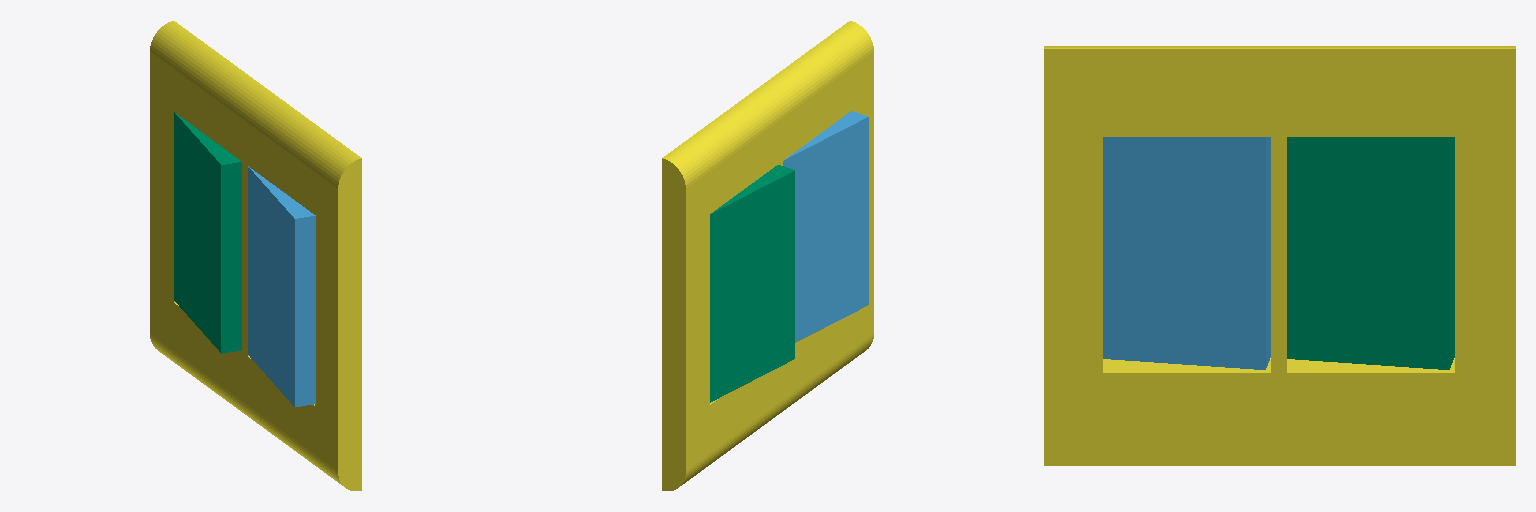
robot.urdf — partnet_3505b2f9-b7a7-44c2-900c-6ac80b0fcbc8:
<robot name="partnet_3505b2f9-b7a7-44c2-900c-6ac80b0fcbc8">
	<link name="base"><inertial><mass value="10" /><inertia ixx="1" ixy="0" ixz="0" iyy="1" iyz="0" izz="1" /></inertial></link>
	<link name="link_0">
		<visual name="switch-1">
			<origin xyz="-0.2850429947919231 0 -0.031202361924061152" />
			<geometry>
				<mesh filename="textured_objs/original-4.obj" />
			</geometry>
		</visual>
		<collision>
			<origin xyz="-0.2850429947919231 0 -0.031202361924061152" />
			<geometry>
				<mesh filename="textured_objs/original-4.obj" />
			</geometry>
		</collision>
	<inertial><mass value="10" /><inertia ixx="1" ixy="0" ixz="0" iyy="1" iyz="0" izz="1" /></inertial></link>
	<joint name="joint_0" type="revolute">
		<origin xyz="0.2850429947919231 0 0.031202361924061152" />
		<axis xyz="0 1 0" />
		<child link="link_0" />
		<parent link="link_2" />
		<limit effort="30" lower="0.0" upper="0.33161255787892263" velocity="1.0" />
	</joint>
	<link name="link_1">
		<visual name="switch-2">
			<origin xyz="0.2982585020662718 0 -0.031202445219137696" />
			<geometry>
				<mesh filename="textured_objs/original-5.obj" />
			</geometry>
		</visual>
		<collision>
			<origin xyz="0.2982585020662718 0 -0.031202445219137696" />
			<geometry>
				<mesh filename="textured_objs/original-5.obj" />
			</geometry>
		</collision>
	<inertial><mass value="10" /><inertia ixx="1" ixy="0" ixz="0" iyy="1" iyz="0" izz="1" /></inertial></link>
	<joint name="joint_1" type="revolute">
		<origin xyz="-0.2982585020662718 0 0.031202445219137696" />
		<axis xyz="0 1 0" />
		<child link="link_1" />
		<parent link="link_2" />
		<limit effort="30" lower="0.0" upper="0.3141592653589793" velocity="1.0" />
	</joint>
	<link name="link_2">
		<visual name="base_body-3">
			<origin xyz="0 0 0" />
			<geometry>
				<mesh filename="textured_objs/original-21.obj" />
			</geometry>
		</visual>
		<visual name="base_body-3">
			<origin xyz="0 0 0" />
			<geometry>
				<mesh filename="textured_objs/original-22.obj" />
			</geometry>
		</visual>
		<visual name="base_body-3">
			<origin xyz="0 0 0" />
			<geometry>
				<mesh filename="textured_objs/original-26.obj" />
			</geometry>
		</visual>
		<visual name="base_body-3">
			<origin xyz="0 0 0" />
			<geometry>
				<mesh filename="textured_objs/original-3.obj" />
			</geometry>
		</visual>
		<visual name="base_body-3">
			<origin xyz="0 0 0" />
			<geometry>
				<mesh filename="textured_objs/original-2.obj" />
			</geometry>
		</visual>
		<visual name="base_body-3">
			<origin xyz="0 0 0" />
			<geometry>
				<mesh filename="textured_objs/original-16.obj" />
			</geometry>
		</visual>
		<visual name="base_body-3">
			<origin xyz="0 0 0" />
			<geometry>
				<mesh filename="textured_objs/original-8.obj" />
			</geometry>
		</visual>
		<visual name="base_body-3">
			<origin xyz="0 0 0" />
			<geometry>
				<mesh filename="textured_objs/original-13.obj" />
			</geometry>
		</visual>
		<visual name="base_body-3">
			<origin xyz="0 0 0" />
			<geometry>
				<mesh filename="textured_objs/original-9.obj" />
			</geometry>
		</visual>
		<visual name="base_body-3">
			<origin xyz="0 0 0" />
			<geometry>
				<mesh filename="textured_objs/original-27.obj" />
			</geometry>
		</visual>
		<visual name="base_body-3">
			<origin xyz="0 0 0" />
			<geometry>
				<mesh filename="textured_objs/original-15.obj" />
			</geometry>
		</visual>
		<visual name="base_body-3">
			<origin xyz="0 0 0" />
			<geometry>
				<mesh filename="textured_objs/original-23.obj" />
			</geometry>
		</visual>
		<visual name="base_body-3">
			<origin xyz="0 0 0" />
			<geometry>
				<mesh filename="textured_objs/original-11.obj" />
			</geometry>
		</visual>
		<visual name="base_body-3">
			<origin xyz="0 0 0" />
			<geometry>
				<mesh filename="textured_objs/original-18.obj" />
			</geometry>
		</visual>
		<visual name="base_body-3">
			<origin xyz="0 0 0" />
			<geometry>
				<mesh filename="textured_objs/original-25.obj" />
			</geometry>
		</visual>
		<visual name="base_body-3">
			<origin xyz="0 0 0" />
			<geometry>
				<mesh filename="textured_objs/original-17.obj" />
			</geometry>
		</visual>
		<visual name="base_body-3">
			<origin xyz="0 0 0" />
			<geometry>
				<mesh filename="textured_objs/original-12.obj" />
			</geometry>
		</visual>
		<visual name="base_body-3">
			<origin xyz="0 0 0" />
			<geometry>
				<mesh filename="textured_objs/original-24.obj" />
			</geometry>
		</visual>
		<visual name="base_body-3">
			<origin xyz="0 0 0" />
			<geometry>
				<mesh filename="textured_objs/original-20.obj" />
			</geometry>
		</visual>
		<visual name="base_body-3">
			<origin xyz="0 0 0" />
			<geometry>
				<mesh filename="textured_objs/original-7.obj" />
			</geometry>
		</visual>
		<visual name="base_body-3">
			<origin xyz="0 0 0" />
			<geometry>
				<mesh filename="textured_objs/original-1.obj" />
			</geometry>
		</visual>
		<visual name="base_body-3">
			<origin xyz="0 0 0" />
			<geometry>
				<mesh filename="textured_objs/original-10.obj" />
			</geometry>
		</visual>
		<visual name="base_body-3">
			<origin xyz="0 0 0" />
			<geometry>
				<mesh filename="textured_objs/original-14.obj" />
			</geometry>
		</visual>
		<visual name="base_body-3">
			<origin xyz="0 0 0" />
			<geometry>
				<mesh filename="textured_objs/original-19.obj" />
			</geometry>
		</visual>
		<collision>
			<origin xyz="0 0 0" />
			<geometry>
				<mesh filename="textured_objs/original-21.obj" />
			</geometry>
		</collision>
		<collision>
			<origin xyz="0 0 0" />
			<geometry>
				<mesh filename="textured_objs/original-22.obj" />
			</geometry>
		</collision>
		<collision>
			<origin xyz="0 0 0" />
			<geometry>
				<mesh filename="textured_objs/original-26.obj" />
			</geometry>
		</collision>
		<collision>
			<origin xyz="0 0 0" />
			<geometry>
				<mesh filename="textured_objs/original-3.obj" />
			</geometry>
		</collision>
		<collision>
			<origin xyz="0 0 0" />
			<geometry>
				<mesh filename="textured_objs/original-2.obj" />
			</geometry>
		</collision>
		<collision>
			<origin xyz="0 0 0" />
			<geometry>
				<mesh filename="textured_objs/original-16.obj" />
			</geometry>
		</collision>
		<collision>
			<origin xyz="0 0 0" />
			<geometry>
				<mesh filename="textured_objs/original-8.obj" />
			</geometry>
		</collision>
		<collision>
			<origin xyz="0 0 0" />
			<geometry>
				<mesh filename="textured_objs/original-13.obj" />
			</geometry>
		</collision>
		<collision>
			<origin xyz="0 0 0" />
			<geometry>
				<mesh filename="textured_objs/original-9.obj" />
			</geometry>
		</collision>
		<collision>
			<origin xyz="0 0 0" />
			<geometry>
				<mesh filename="textured_objs/original-27.obj" />
			</geometry>
		</collision>
		<collision>
			<origin xyz="0 0 0" />
			<geometry>
				<mesh filename="textured_objs/original-15.obj" />
			</geometry>
		</collision>
		<collision>
			<origin xyz="0 0 0" />
			<geometry>
				<mesh filename="textured_objs/original-23.obj" />
			</geometry>
		</collision>
		<collision>
			<origin xyz="0 0 0" />
			<geometry>
				<mesh filename="textured_objs/original-11.obj" />
			</geometry>
		</collision>
		<collision>
			<origin xyz="0 0 0" />
			<geometry>
				<mesh filename="textured_objs/original-18.obj" />
			</geometry>
		</collision>
		<collision>
			<origin xyz="0 0 0" />
			<geometry>
				<mesh filename="textured_objs/original-25.obj" />
			</geometry>
		</collision>
		<collision>
			<origin xyz="0 0 0" />
			<geometry>
				<mesh filename="textured_objs/original-17.obj" />
			</geometry>
		</collision>
		<collision>
			<origin xyz="0 0 0" />
			<geometry>
				<mesh filename="textured_objs/original-12.obj" />
			</geometry>
		</collision>
		<collision>
			<origin xyz="0 0 0" />
			<geometry>
				<mesh filename="textured_objs/original-24.obj" />
			</geometry>
		</collision>
		<collision>
			<origin xyz="0 0 0" />
			<geometry>
				<mesh filename="textured_objs/original-20.obj" />
			</geometry>
		</collision>
		<collision>
			<origin xyz="0 0 0" />
			<geometry>
				<mesh filename="textured_objs/original-7.obj" />
			</geometry>
		</collision>
		<collision>
			<origin xyz="0 0 0" />
			<geometry>
				<mesh filename="textured_objs/original-1.obj" />
			</geometry>
		</collision>
		<collision>
			<origin xyz="0 0 0" />
			<geometry>
				<mesh filename="textured_objs/original-10.obj" />
			</geometry>
		</collision>
		<collision>
			<origin xyz="0 0 0" />
			<geometry>
				<mesh filename="textured_objs/original-14.obj" />
			</geometry>
		</collision>
		<collision>
			<origin xyz="0 0 0" />
			<geometry>
				<mesh filename="textured_objs/original-19.obj" />
			</geometry>
		</collision>
	<inertial><mass value="10" /><inertia ixx="1" ixy="0" ixz="0" iyy="1" iyz="0" izz="1" /></inertial></link>
	<joint name="joint_2" type="fixed">
		<origin rpy="1.570796326794897 0 -1.570796326794897" xyz="0 0 0" />
		<child link="link_2" />
		<parent link="base" />
	</joint>
</robot>

--- Render facts (derived) ---
The picture shows the robot from 3 angles, left to right: view 1: azimuth 30°, elevation 25°; view 2: azimuth 150°, elevation 25°; view 3: azimuth 270°, elevation 25°; orthographic projection.
Robot: partnet_3505b2f9-b7a7-44c2-900c-6ac80b0fcbc8 — 4 links, 3 joints (2 revolute, 1 fixed); root link base; default pose: every joint at zero.
Visible links, largest first — view 1: link_2, link_1, link_0; view 2: link_2, link_1, link_0; view 3: link_2, link_0, link_1.
Link boxes in pixels (x1,y1,x2,y2): link_2: (150, 21, 361, 490); link_1: (174, 112, 241, 353); link_0: (248, 166, 315, 406); link_2: (662, 21, 873, 490); link_1: (710, 165, 794, 402); link_0: (783, 111, 868, 342); link_2: (1044, 46, 1515, 465); link_0: (1103, 137, 1270, 369); link_1: (1287, 137, 1454, 369).
Size in the robot's own frame: 0.1967 by 1.49 by 1.46 metres.
26 mesh visuals loaded from 26 distinct referenced files (26 OBJ).